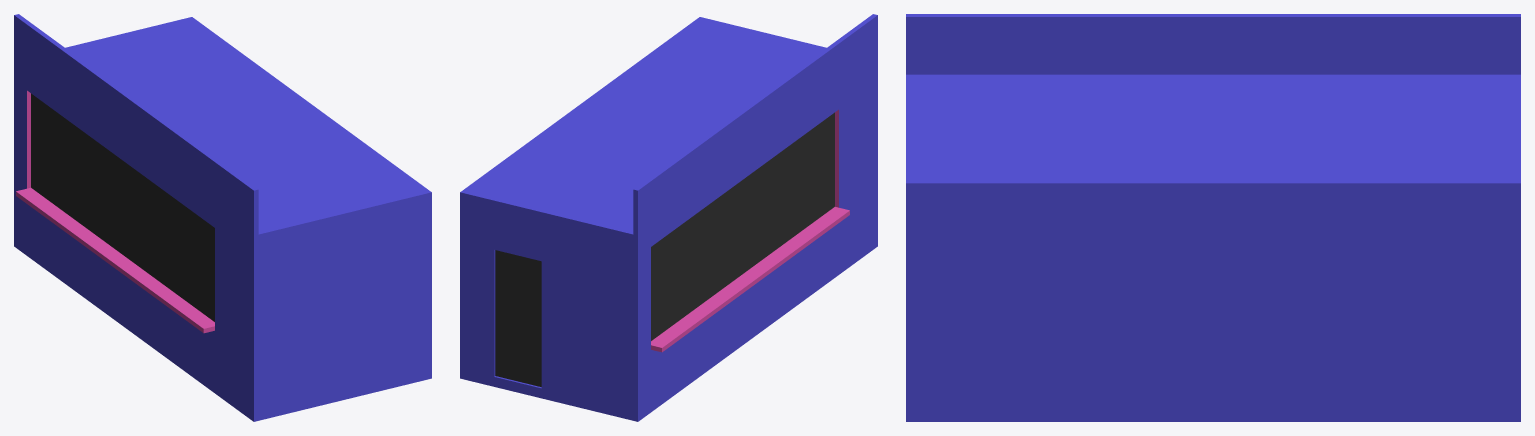
File: booth_template.glb
3 renders of one model, left to right at view 1: azimuth 30°, elevation 25°; view 2: azimuth 150°, elevation 25°; view 3: azimuth 270°, elevation 25°, orthographic. The views are drawn at different scales.
Visible parts, largest first — view 1: Cube; view 2: Cube; view 3: Cube.
Boxes of the visible parts, box(x1,y1,x2,y2) form: Cube: box(14, 14, 431, 421); Cube: box(460, 14, 877, 421); Cube: box(906, 14, 1520, 421).
Size of the model in its own units: 3.19 by 3.73 by 7.
